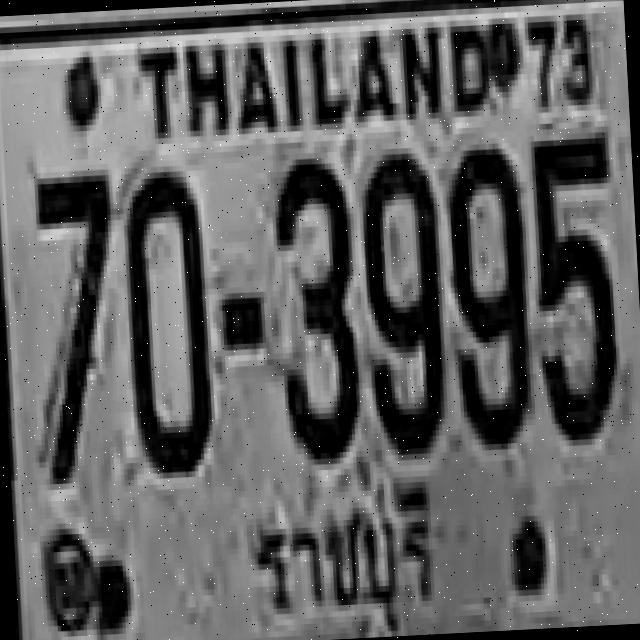0: (122, 164, 215, 474)
3: (270, 152, 360, 461)
5: (529, 129, 622, 439)
7: (28, 170, 124, 485)
9: (444, 142, 534, 446), (358, 147, 448, 450)
Ratchaburi: (240, 477, 436, 640)
